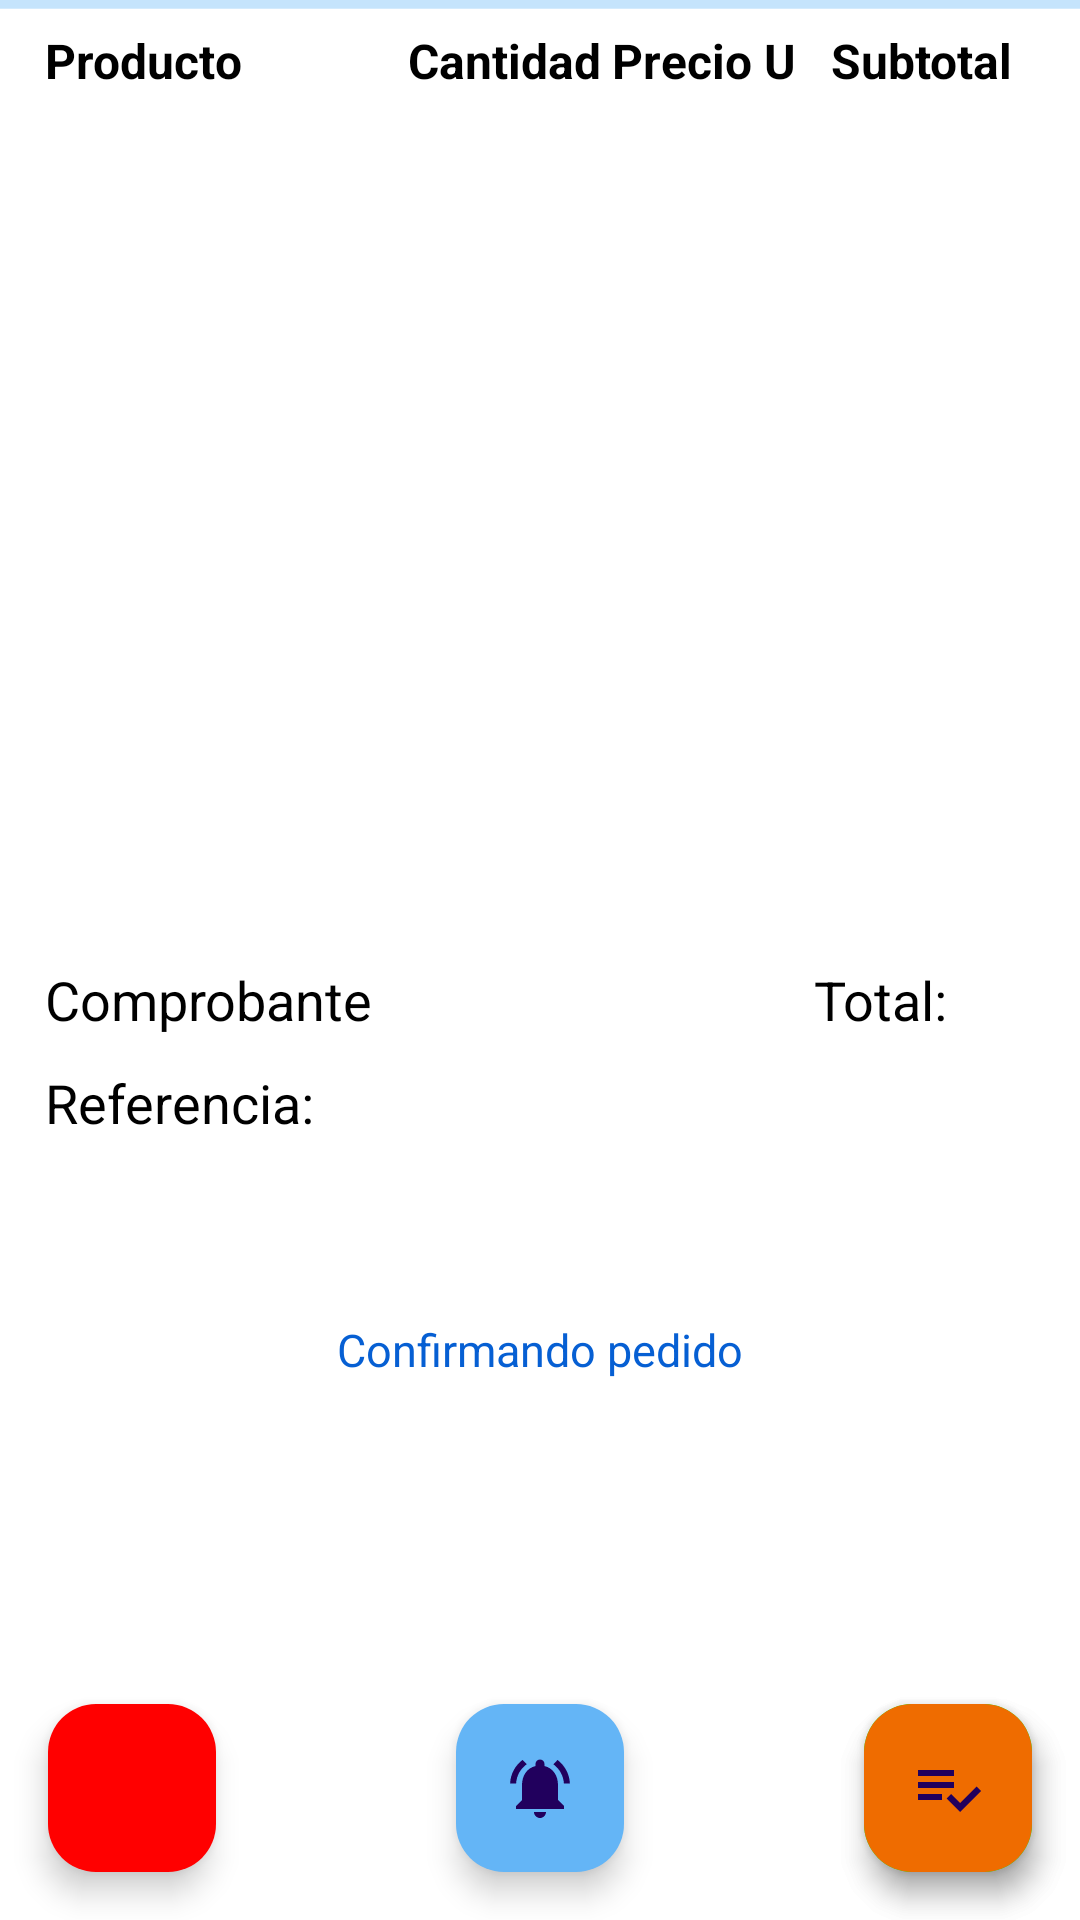

Screen size 1080×1920. Icon name, then its center in pixels as point (x, y):
notifications: point (540, 1788)
playlist add check: point (948, 1788)
